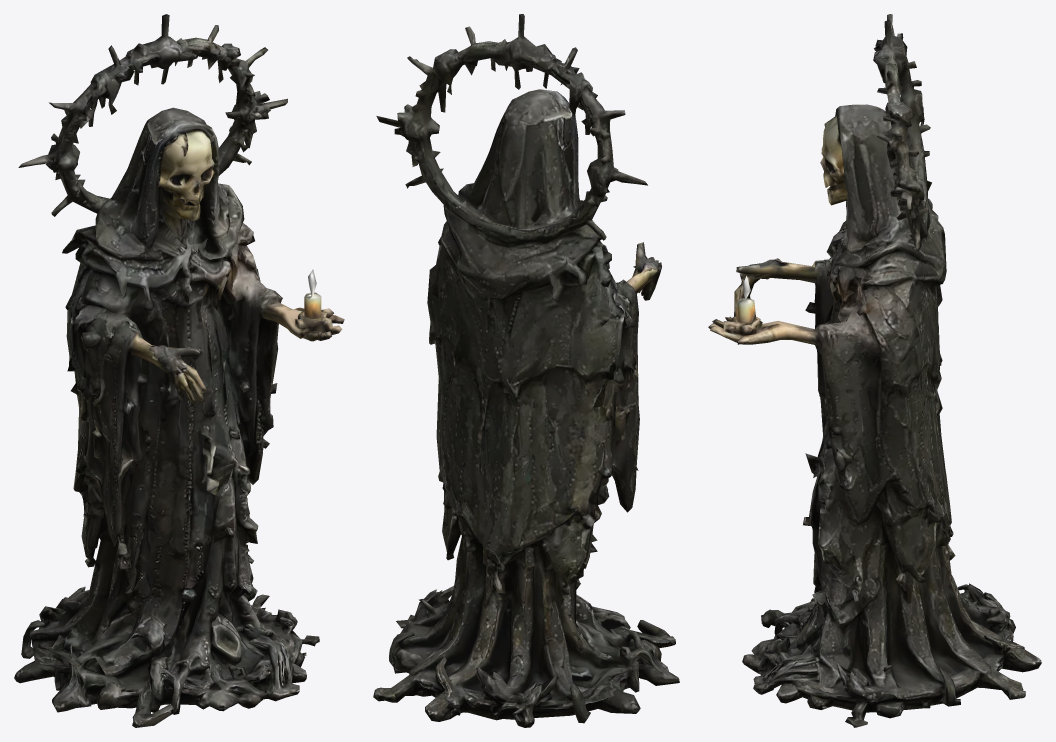
File: foe_drowned_saint.glb
The picture shows the model from 3 angles, left to right: view 1: azimuth 30°, elevation 25°; view 2: azimuth 150°, elevation 25°; view 3: azimuth 270°, elevation 25°; orthographic projection.
Visible parts, largest first — view 1: tripo_node_0caa5731-9445-4bbf-9493-3b8fb7f8bb58; view 2: tripo_node_0caa5731-9445-4bbf-9493-3b8fb7f8bb58; view 3: tripo_node_0caa5731-9445-4bbf-9493-3b8fb7f8bb58.
Part boxes in pixels (left/top/right/bottom): tripo_node_0caa5731-9445-4bbf-9493-3b8fb7f8bb58: left=14, top=14, right=344, bottom=727; tripo_node_0caa5731-9445-4bbf-9493-3b8fb7f8bb58: left=373, top=14, right=679, bottom=727; tripo_node_0caa5731-9445-4bbf-9493-3b8fb7f8bb58: left=708, top=14, right=1041, bottom=727.
Size of the model in its own units: 0.4372 by 0.9809 by 0.4627.
1 material, 1 textured.
